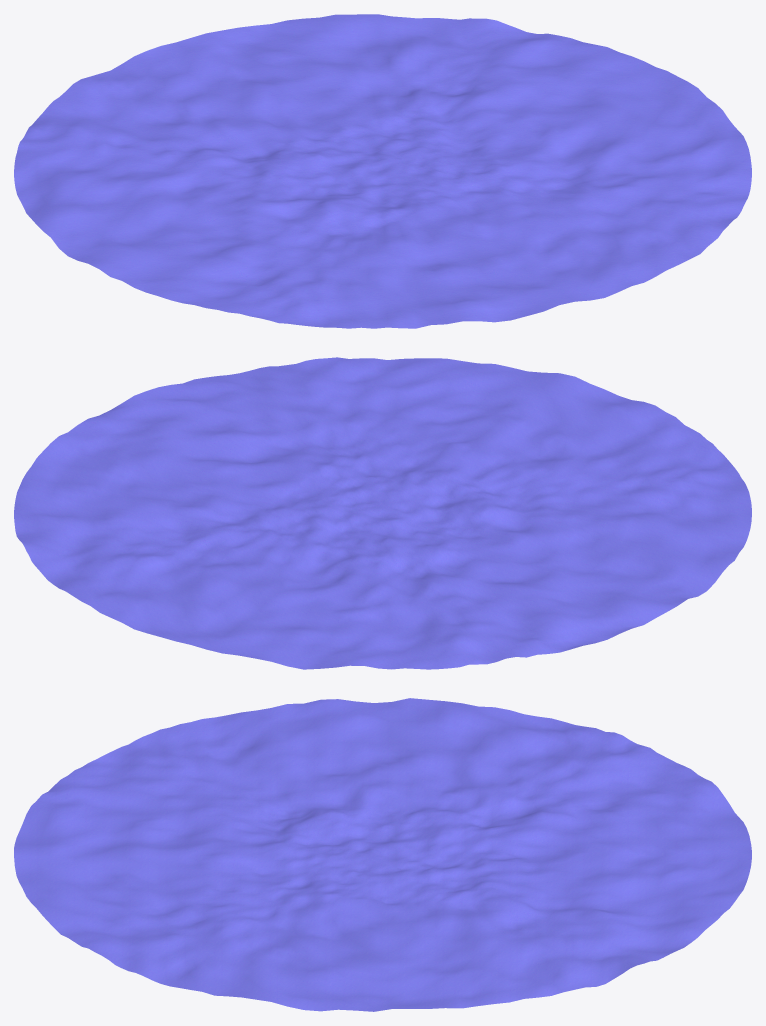
The model's file is SnowBase.FBX.
The picture shows the model from 3 angles, top to bottom: view 1: azimuth 30°, elevation 25°; view 2: azimuth 150°, elevation 25°; view 3: azimuth 270°, elevation 25°; orthographic projection.
Parts seen in each view (by area): view 1: SnowBase; view 2: SnowBase; view 3: SnowBase.
Boxes of the visible parts, box(x1,y1,x2,y2) form: SnowBase: box(14, 14, 751, 328); SnowBase: box(14, 357, 751, 669); SnowBase: box(14, 698, 751, 1011).
Bounding box in the file's own units: 13.52 × 13.52 × 0.2234.
